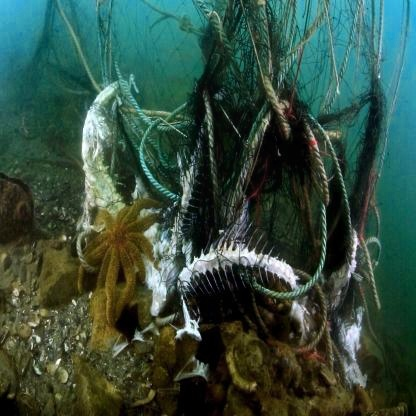net: (167, 0, 387, 270)
